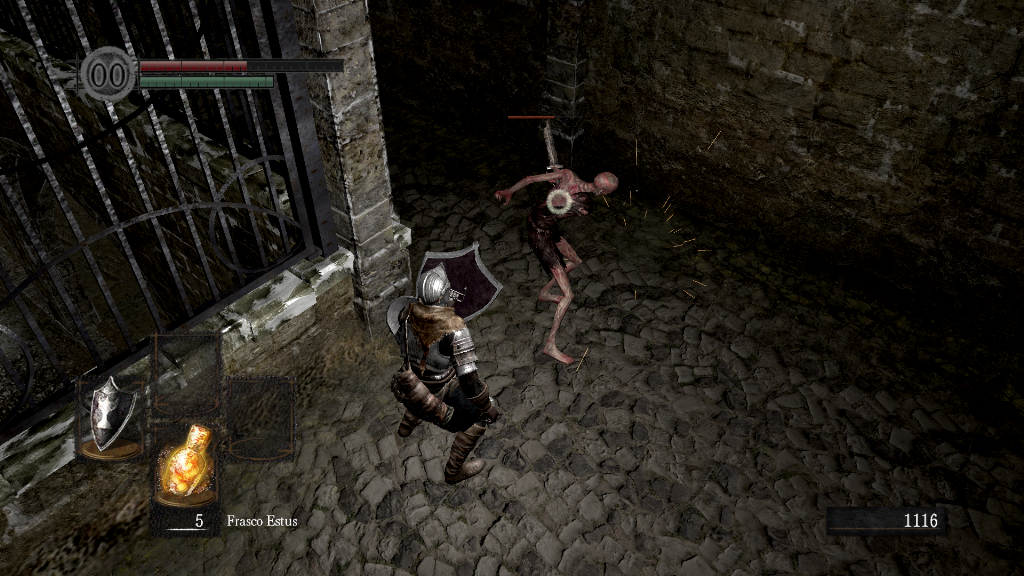health: (138, 58, 343, 71)
hollow: (494, 164, 619, 377)
humanity: (80, 45, 136, 102)
player: (385, 240, 506, 487)
souls: (825, 506, 945, 536)
stamina: (138, 74, 274, 88)
